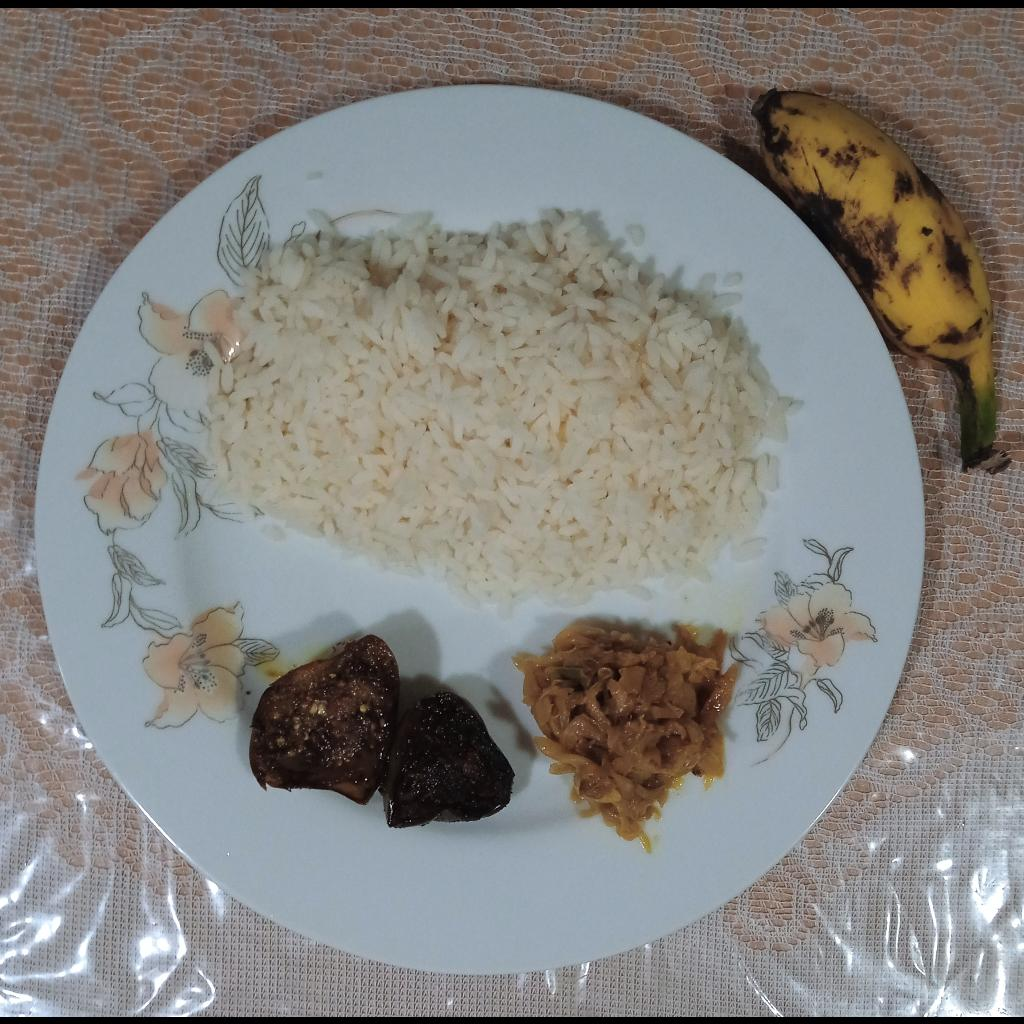banana: (750, 82, 997, 445)
begun-vaji: (247, 635, 516, 829)
cabbage: (516, 616, 745, 842)
rice: (207, 208, 802, 623)
